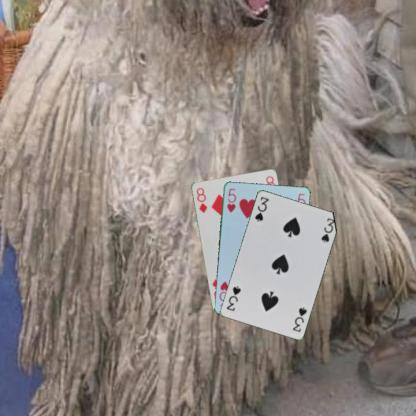3s: (252, 194, 270, 223), (290, 304, 308, 333)
5h: (224, 186, 237, 213)
8d: (194, 185, 209, 214)
